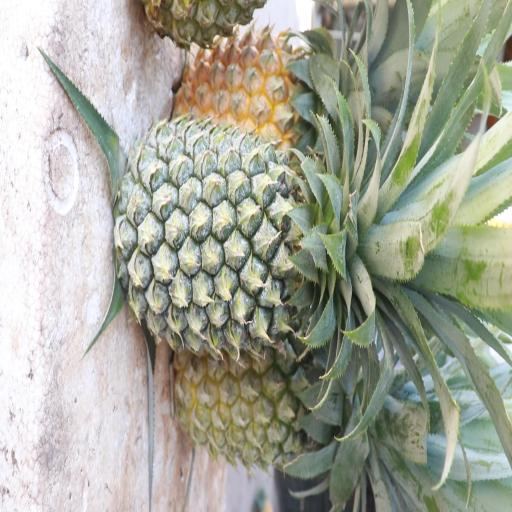------------------------------: (173, 333, 341, 465)
Pineapple - v8 v1: (179, 20, 330, 144)
